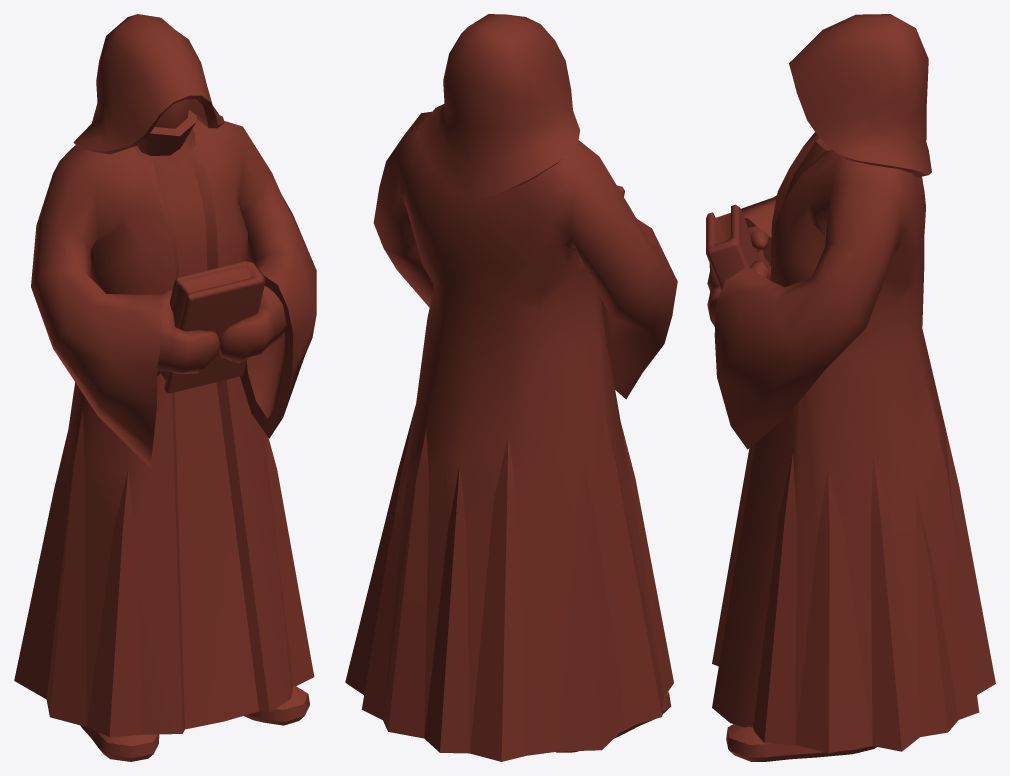
File: statue_warlock_001.fbx
3 views of the same model, side by side, from view 1: azimuth 30°, elevation 25°; view 2: azimuth 150°, elevation 25°; view 3: azimuth 270°, elevation 25° (orthographic). The views are drawn at different scales.
Visible parts, largest first — view 1: statue_warlock_001; view 2: statue_warlock_001; view 3: statue_warlock_001.
Boxes of the visible parts, bbox=[...] form: statue_warlock_001: bbox=[14, 14, 316, 761]; statue_warlock_001: bbox=[345, 14, 677, 761]; statue_warlock_001: bbox=[706, 14, 995, 761].
Bounding box in the file's own units: 404 × 374 × 990.
